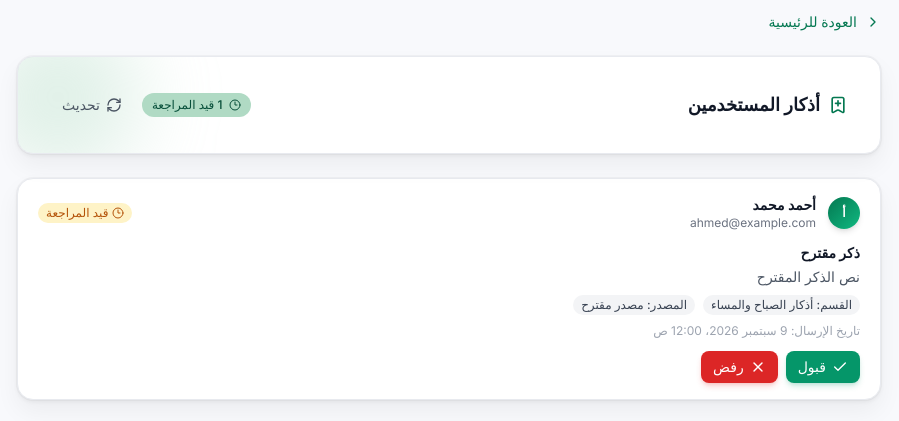
AdminDhikrSubmissionsPage › rejects a pending submission and toasts the user-notification result
Click the button "رفض" at (739, 367), box [701, 351, 778, 383]
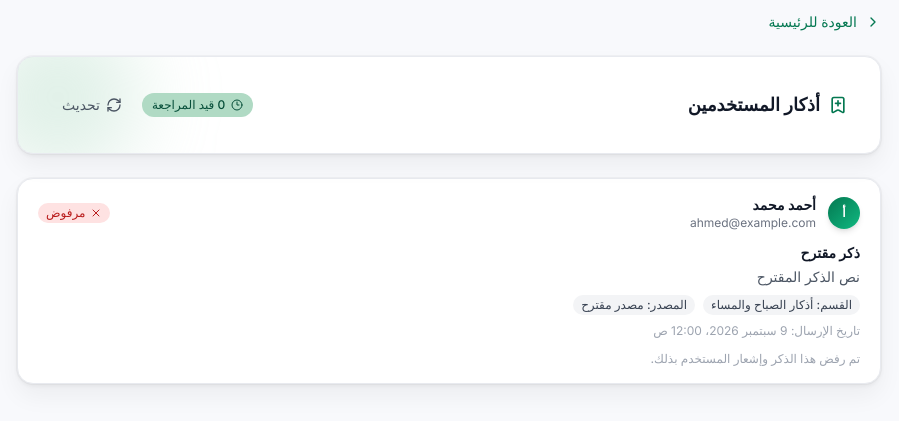
Expected: the text "تم رفض هذا الذكر وإشعار المستخدم بذلك." is shown, [650, 351, 860, 366]
